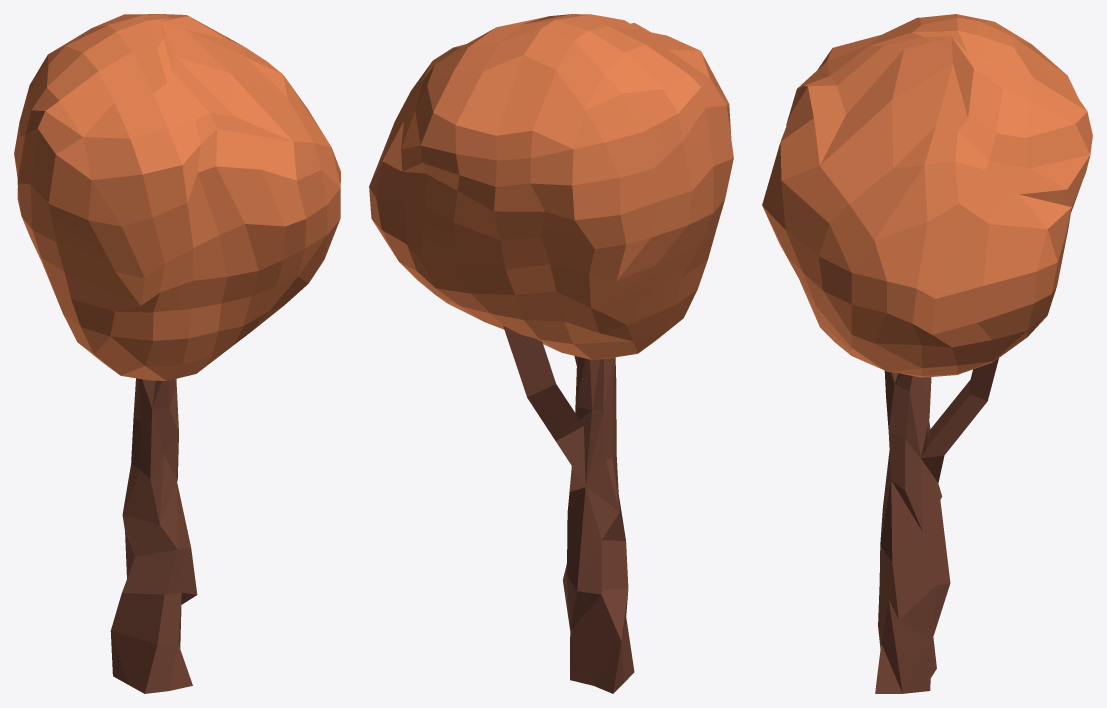
Rendered from TreeRed02.fbx.
3 renders of one model, left to right at view 1: azimuth 30°, elevation 25°; view 2: azimuth 150°, elevation 25°; view 3: azimuth 270°, elevation 25°, orthographic. The views are drawn at different scales.
Visible parts, largest first — view 1: TreeRed02; view 2: TreeRed02; view 3: TreeRed02.
Part boxes in pixels (bbox=[...]): TreeRed02: bbox=[14, 14, 340, 693]; TreeRed02: bbox=[369, 14, 733, 693]; TreeRed02: bbox=[762, 14, 1092, 693].
Bounding box in the file's own units: 884 × 1793 × 814.
